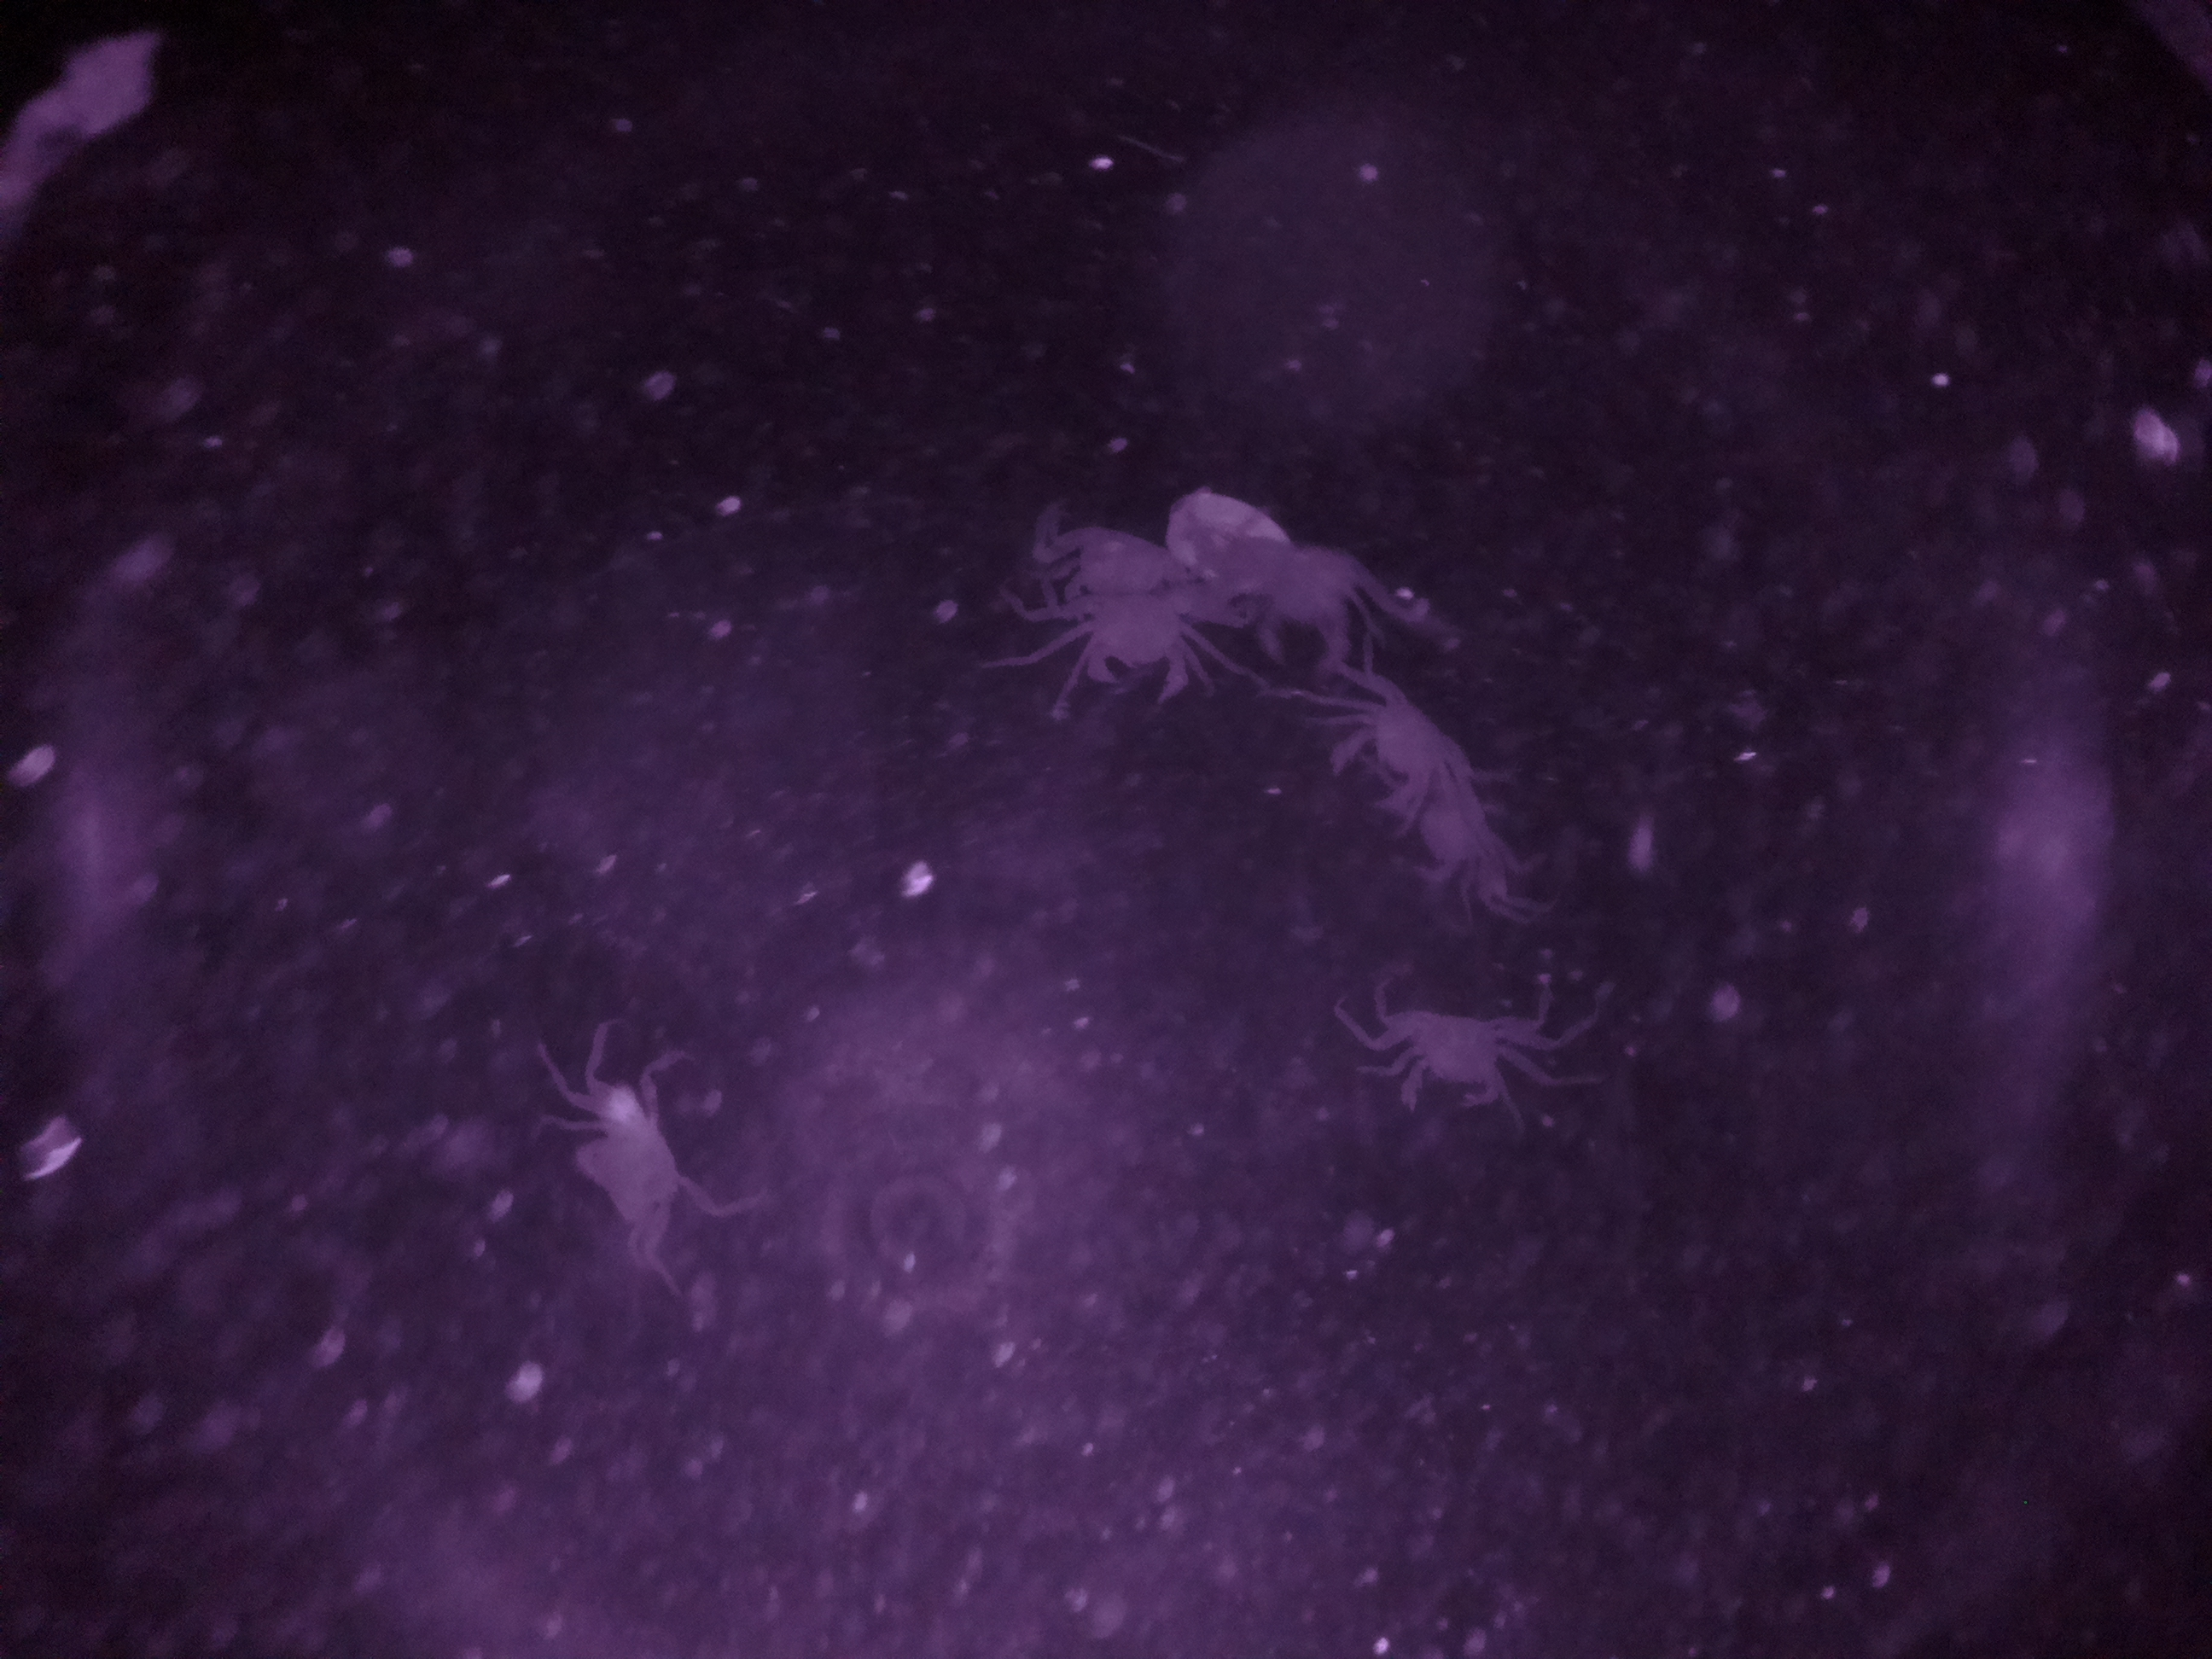Crab: (1346, 967, 1590, 1134), (1327, 660, 1494, 849)
